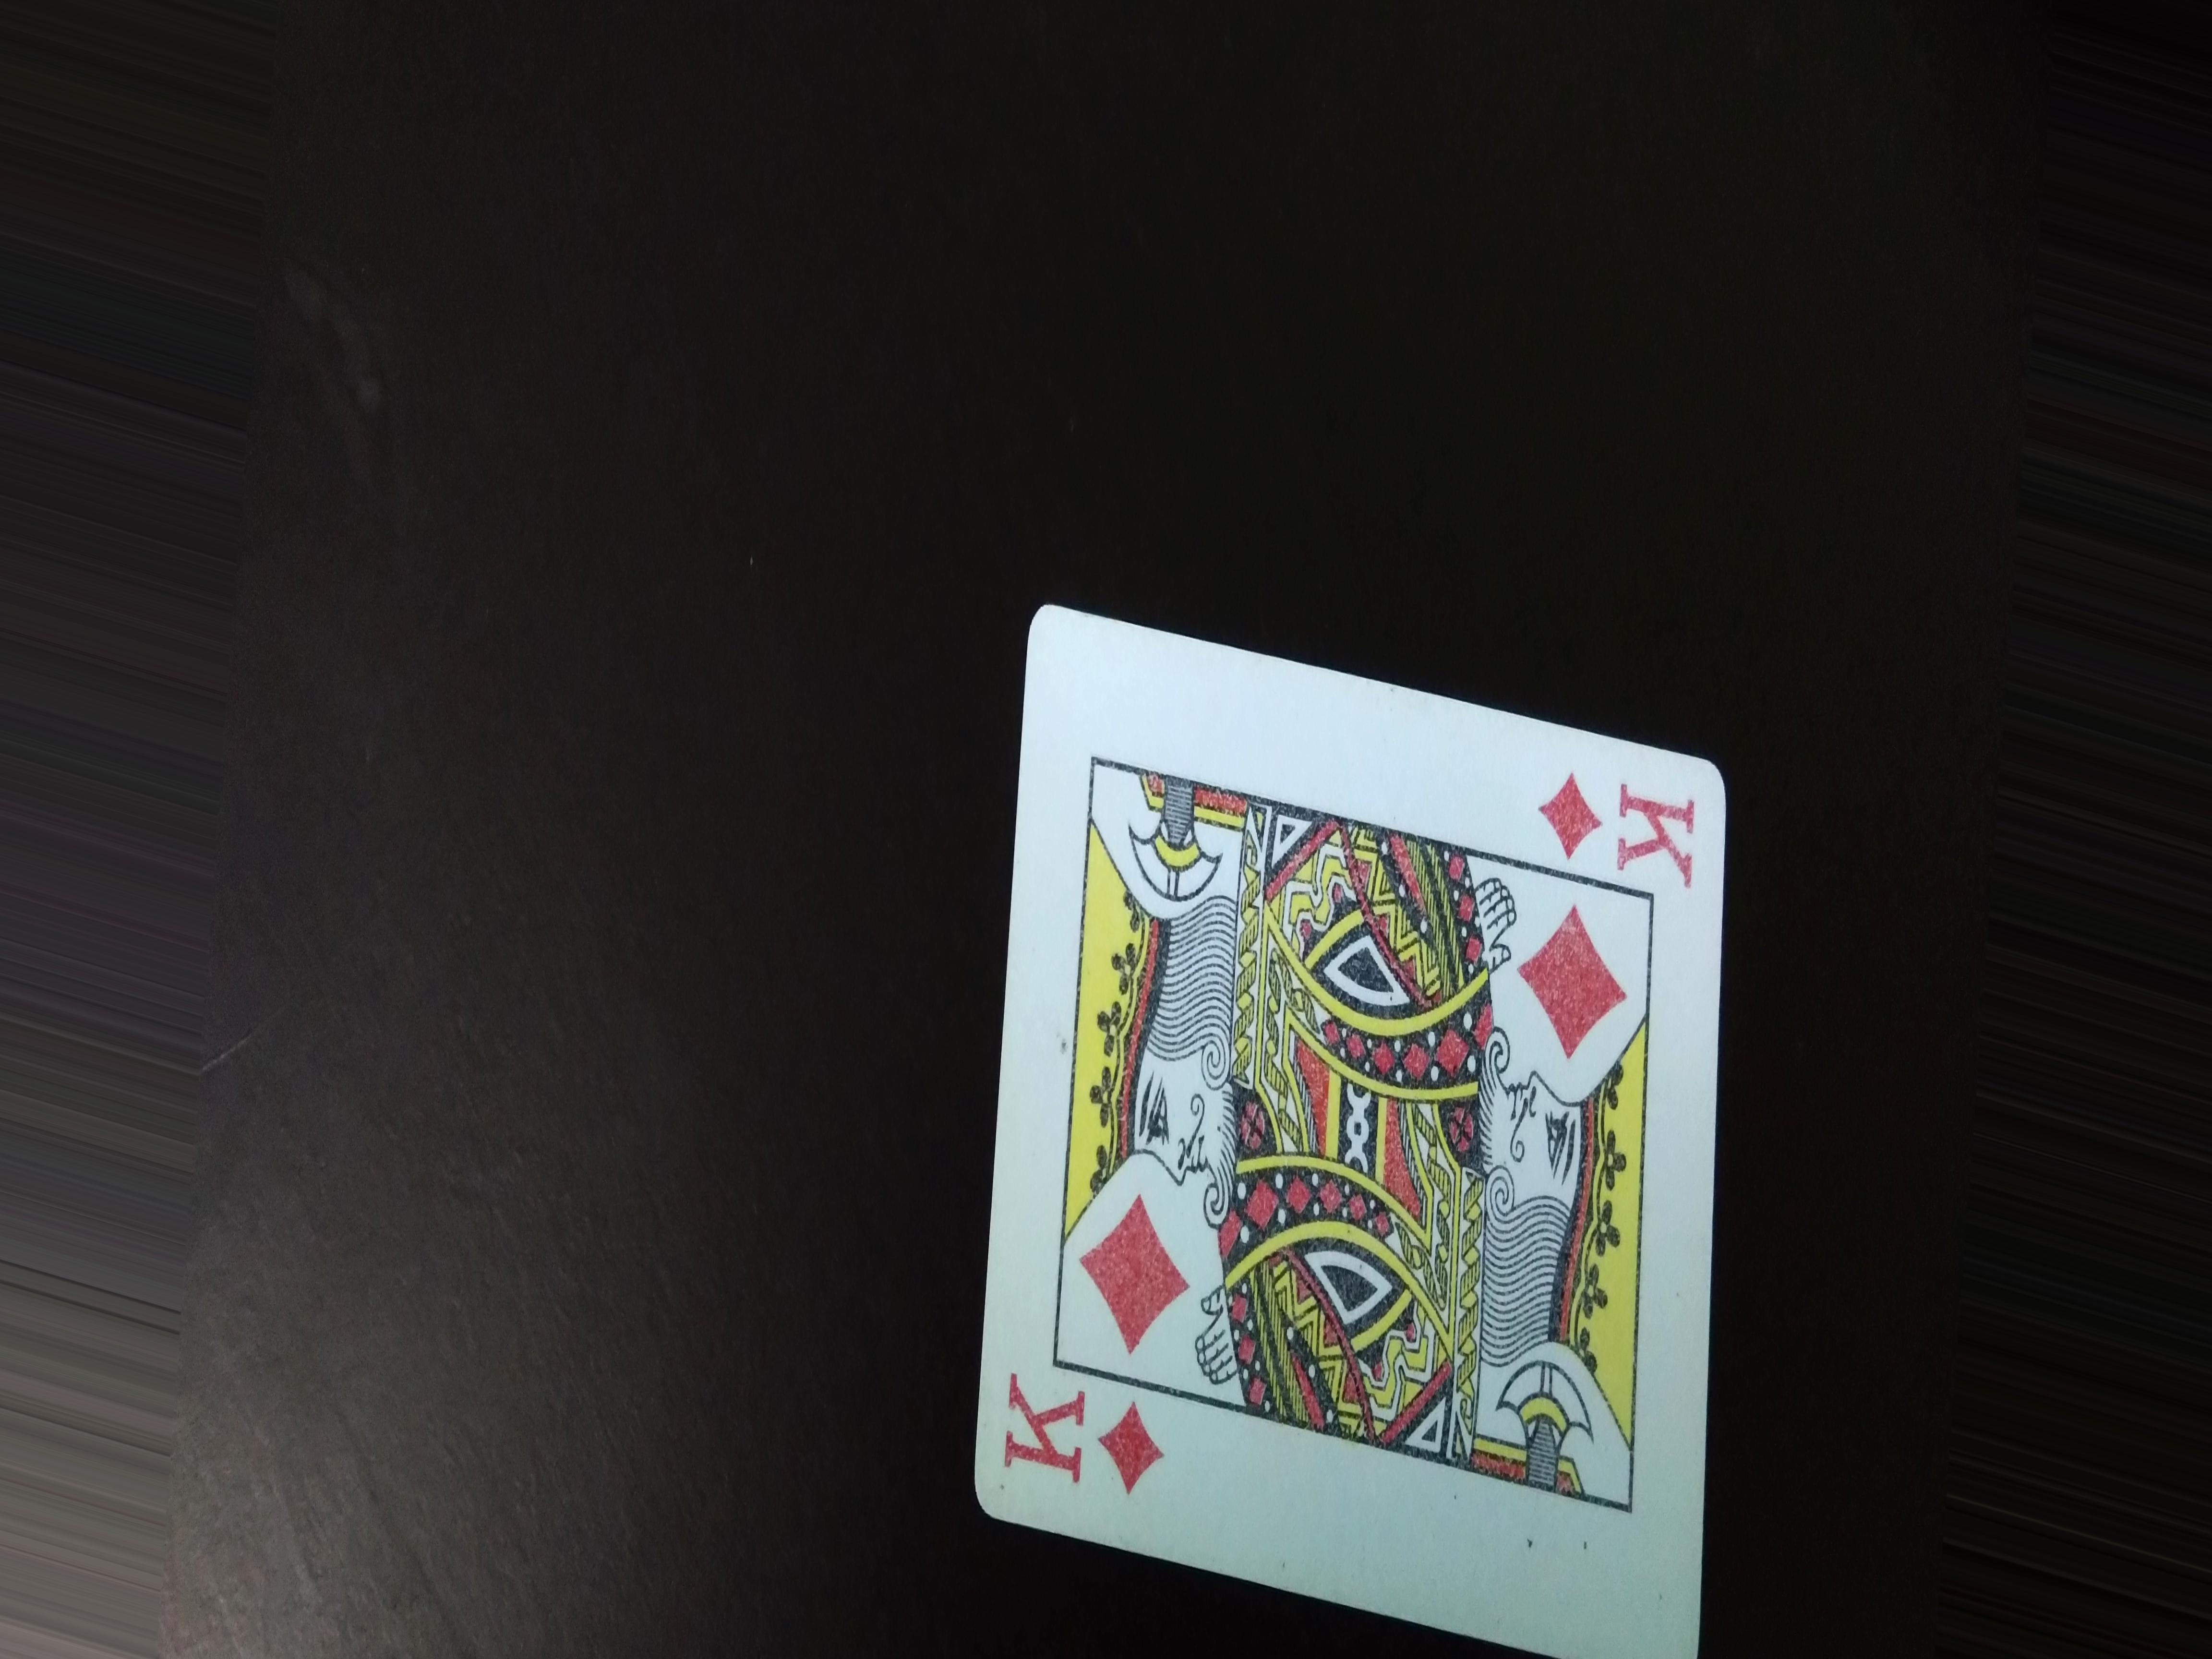KD: (1529, 762, 1712, 884)
